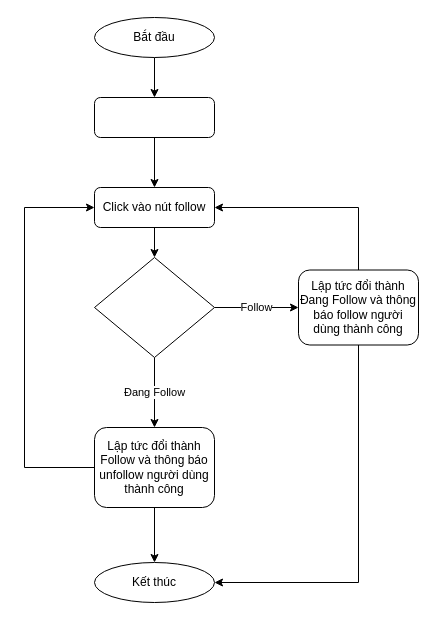
The diagram is 436 pixels wide and 620 high, and some of its shapes have lost their labels. Each missing label, with the box of its shape:
Chọn người dùng muốn follow: (94, 96, 214, 138)
Trạng thái ban đầu: (94, 256, 214, 358)
